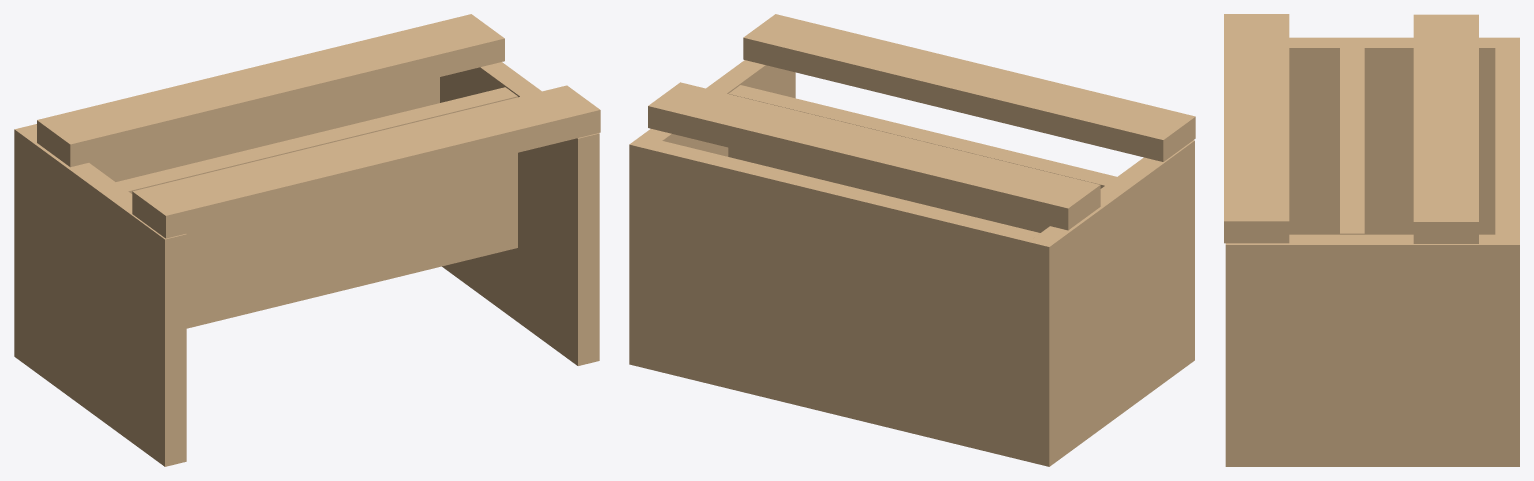
File: tinker.obj
3 views of the same model, side by side, from view 1: azimuth 30°, elevation 25°; view 2: azimuth 150°, elevation 25°; view 3: azimuth 270°, elevation 25° (orthographic). The views are drawn at different scales.
Parts seen in each view (by area): view 1: obj_0; view 2: obj_0; view 3: obj_0.
Boxes of the visible parts, x1=… form: obj_0: x1=14, y1=14, x2=600, y2=466; obj_0: x1=629, y1=14, x2=1195, y2=466; obj_0: x1=1224, y1=14, x2=1519, y2=466.
Size of the model in its own units: 301 by 166 by 181.
